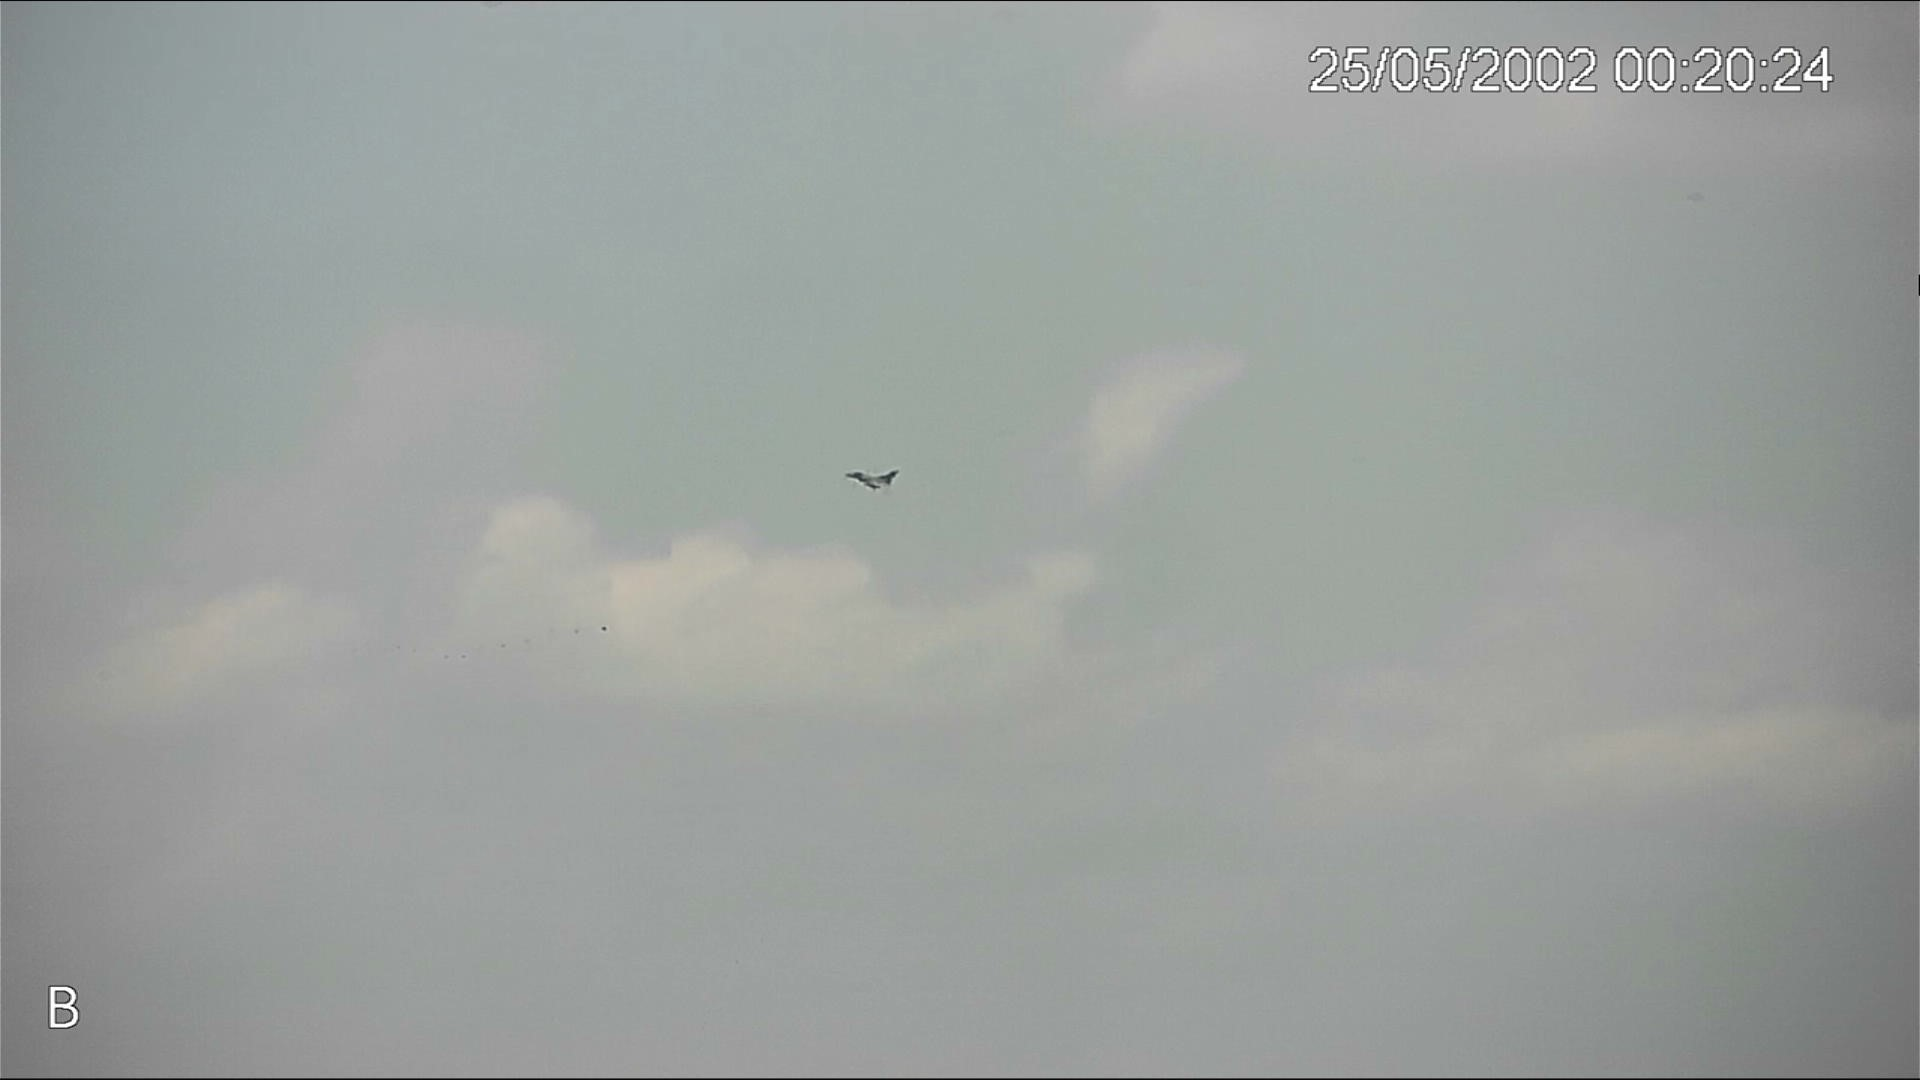SU_30: (847, 467, 898, 493)
